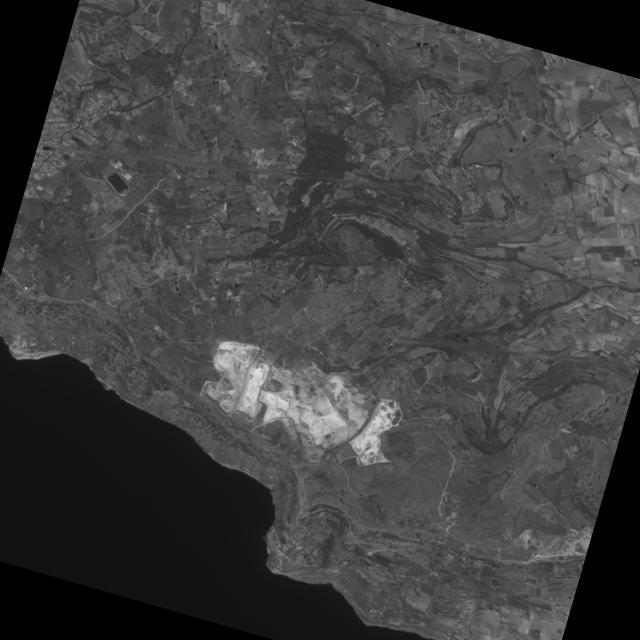storage-tank: (23, 285, 28, 290)
